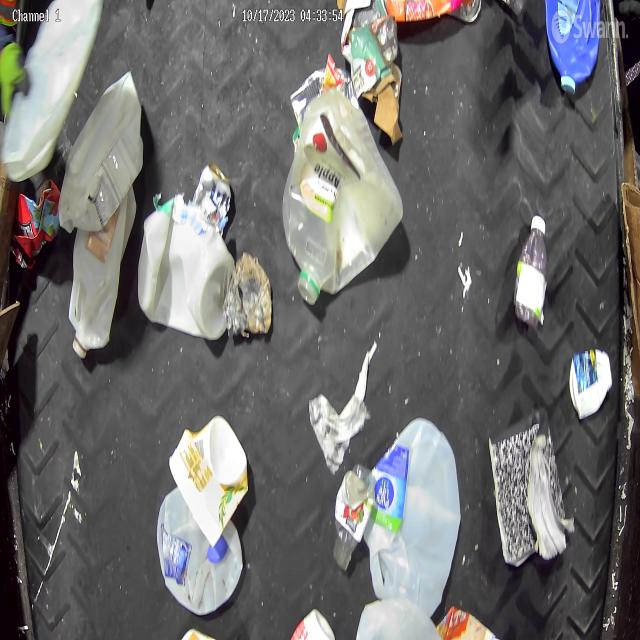can: (190, 163, 232, 234)
milk_jug: (283, 92, 404, 304), (370, 420, 462, 618), (5, 0, 105, 181), (138, 194, 238, 337), (59, 69, 144, 234), (68, 183, 137, 359), (154, 489, 244, 612)
non_white_jug: (544, 0, 604, 97)
plastic_bottle: (332, 461, 378, 573), (514, 214, 548, 330)
